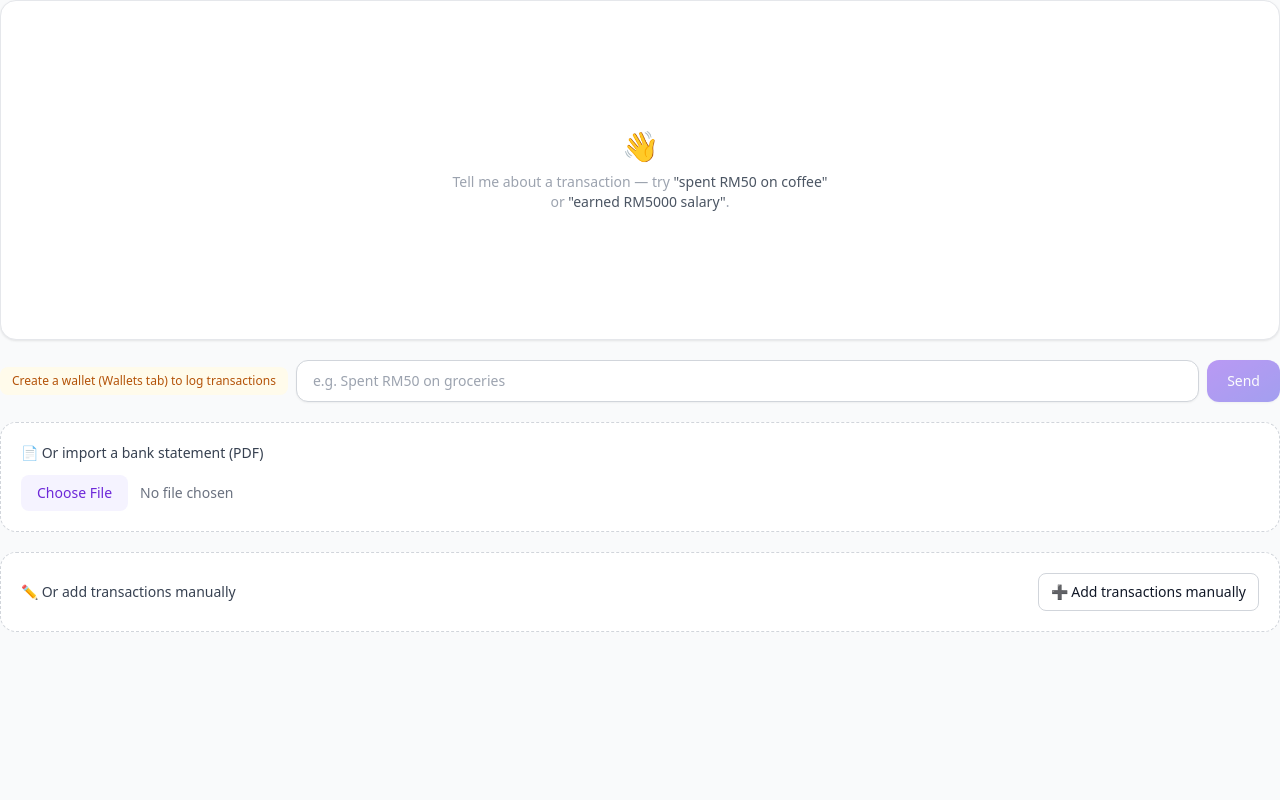
it: ChatInterface — manual entry › saves manual rows, confirms in the chat, and closes the table
The image size is (1280, 800).
Click the button "➕ Add transactions manually" at (1148, 592), box [1038, 573, 1259, 611]
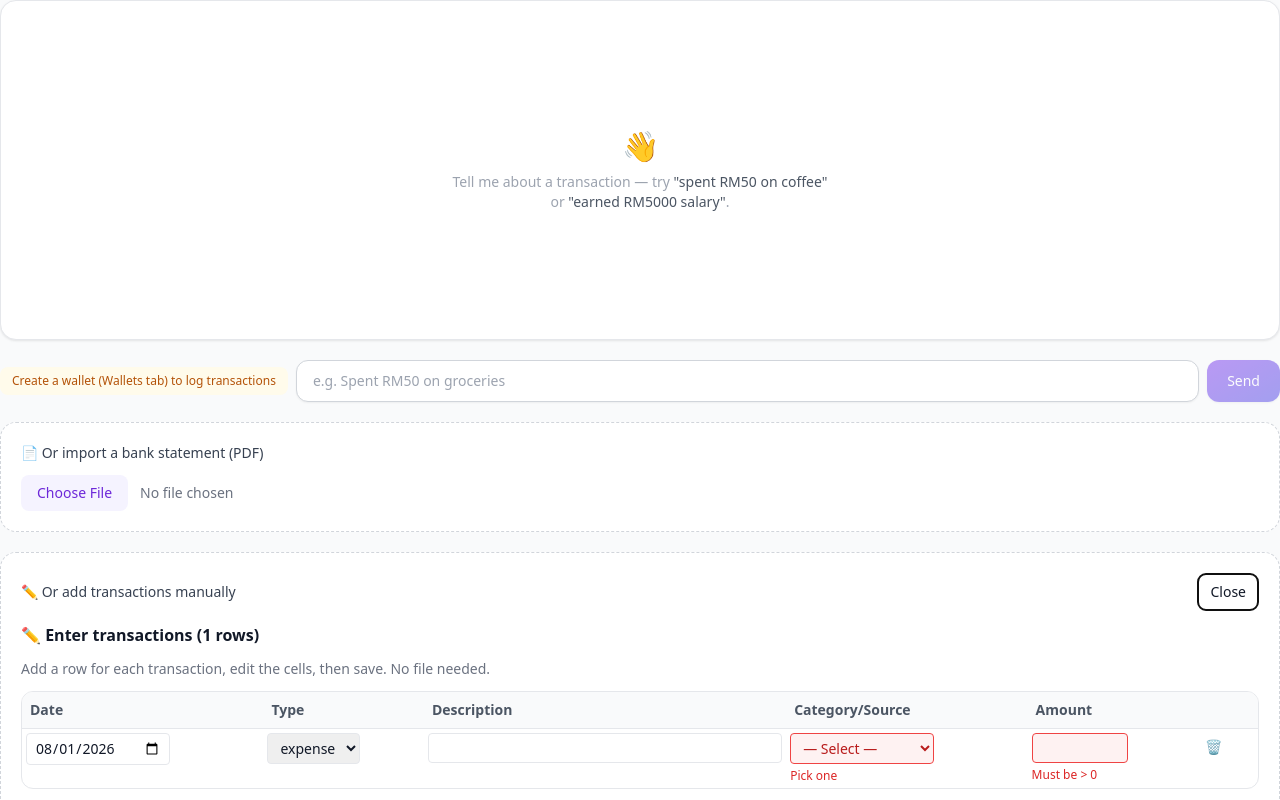
Type "50" into the number field at (1080, 748), box [1032, 733, 1128, 763]
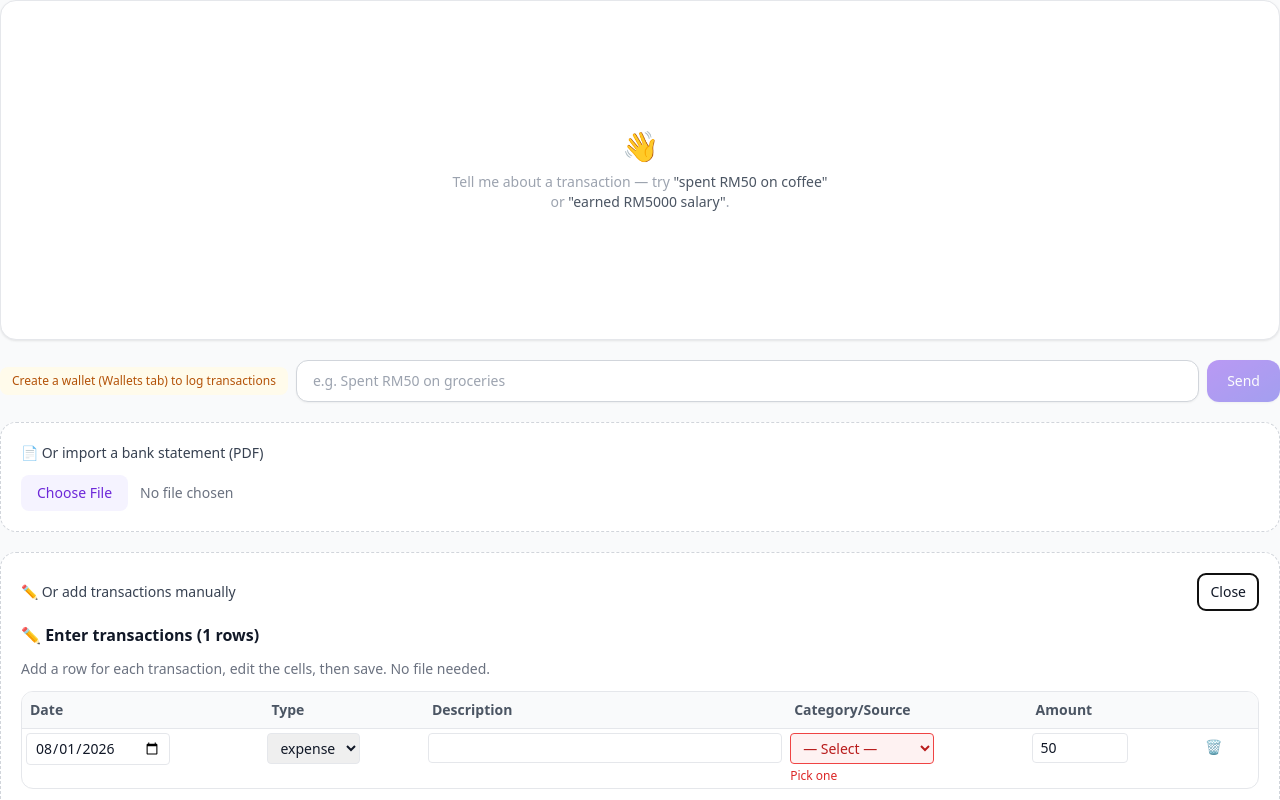
Select "Food" in the 2nd dropdown at (862, 748), box [790, 733, 934, 764]
(page scrolled)
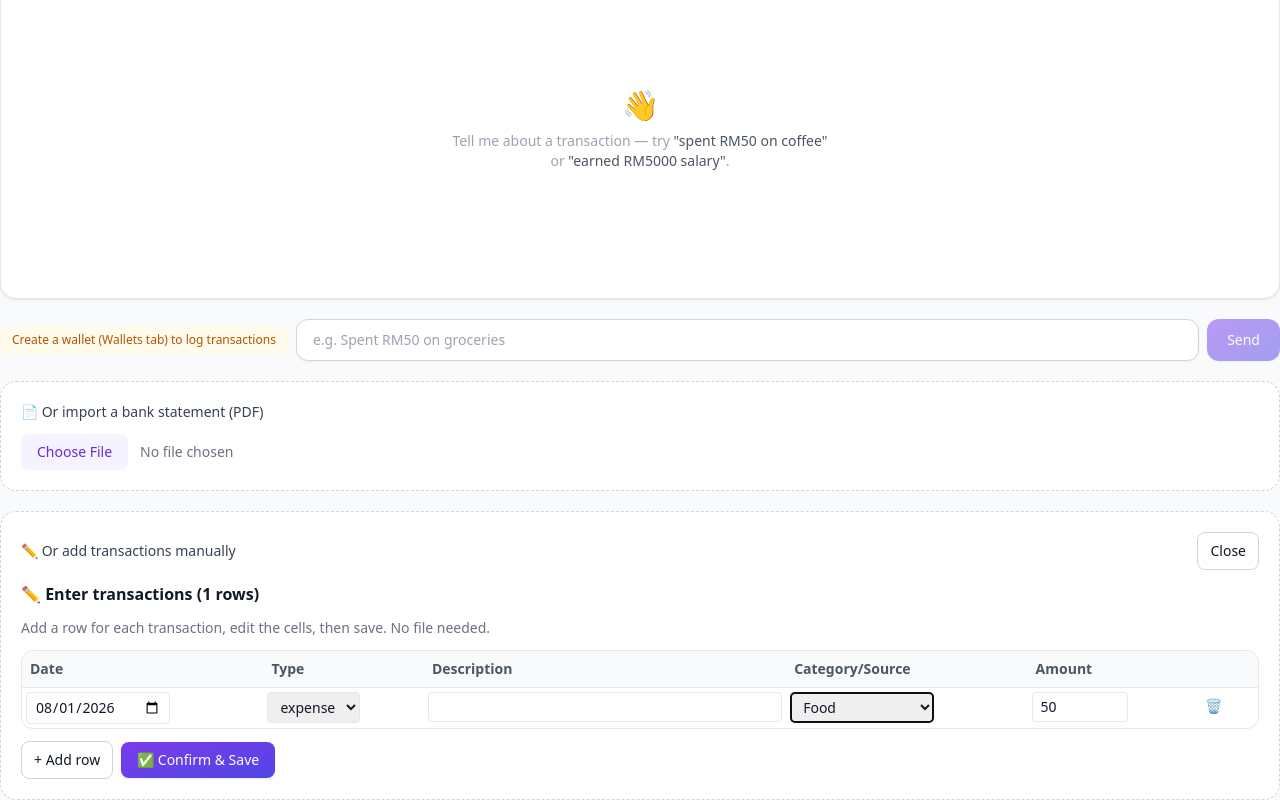
Click the button "✅ Confirm & Save" at (198, 760), box [121, 742, 275, 778]
(page scrolled)
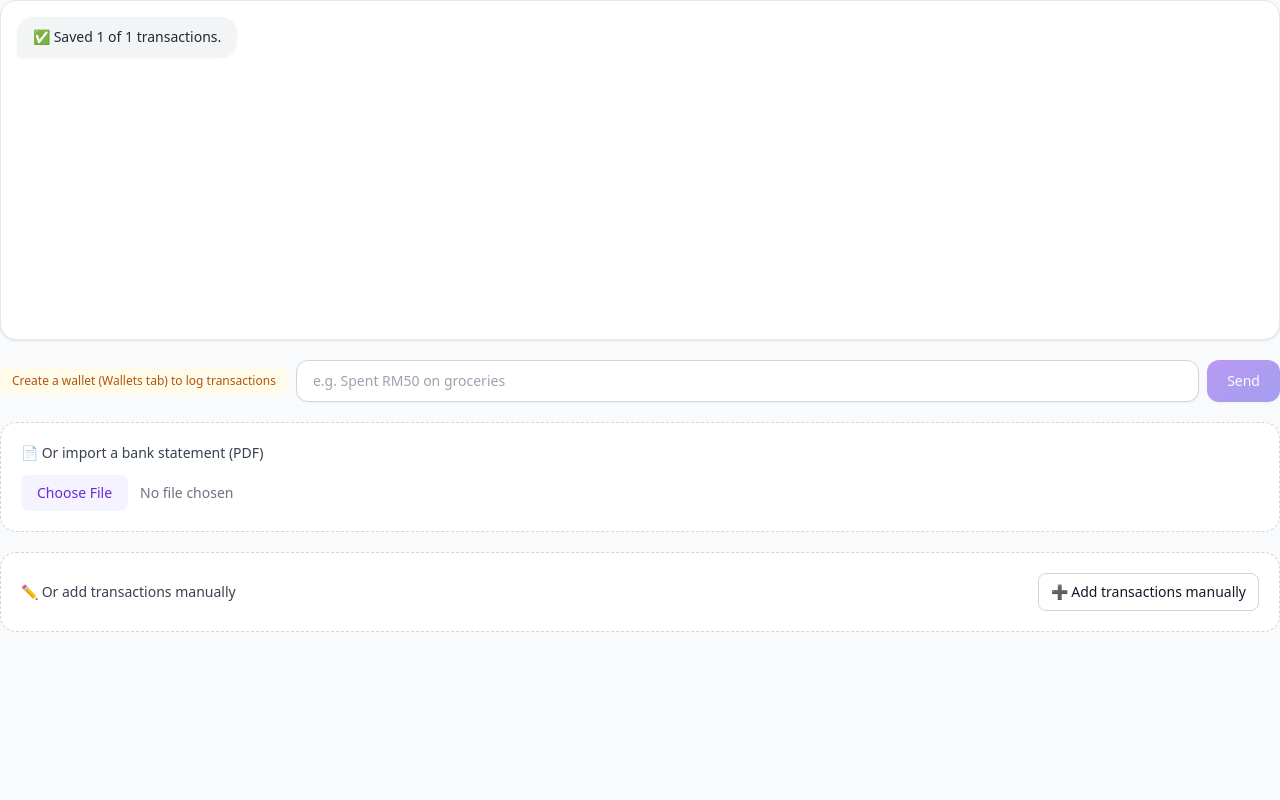
Result: the text "✅ Saved 1 of 1 transactions." is shown at [17, 17, 237, 57]
Result: the heading "Enter transactions" is gone
Result: the button "➕ Add transactions manually" is shown at [1038, 573, 1259, 611]
